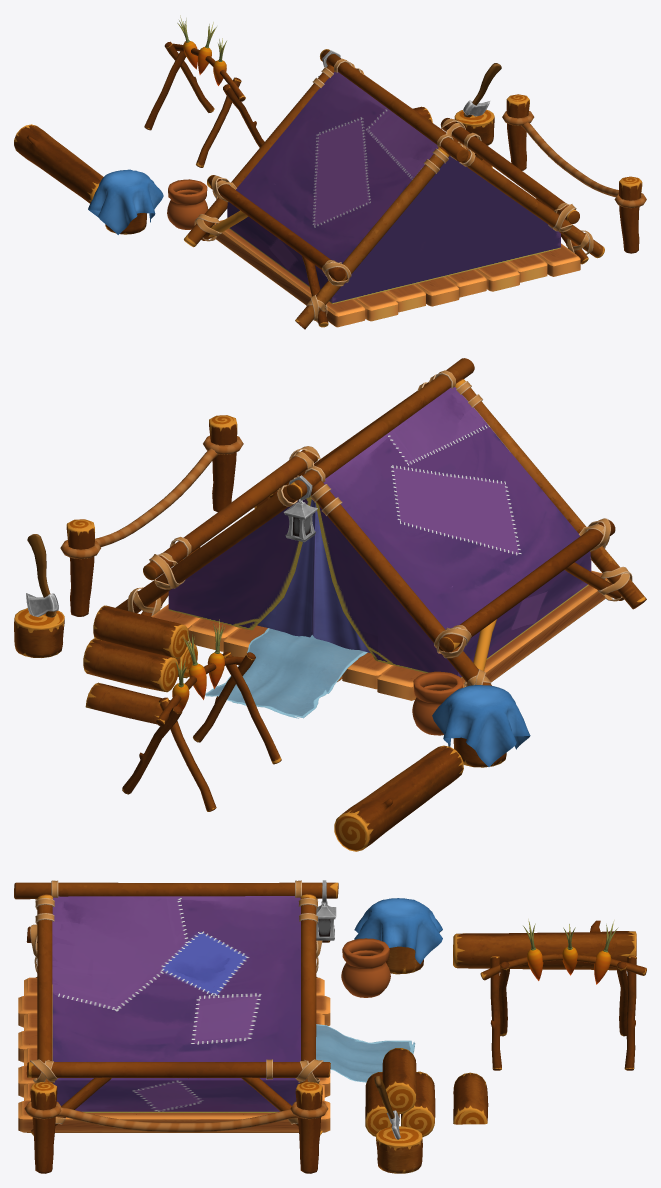
File: camp.fbx
3 renders of one model, top to bottom at view 1: azimuth 30°, elevation 25°; view 2: azimuth 150°, elevation 25°; view 3: azimuth 270°, elevation 25°, orthographic. The views are drawn at different scales.
Parts seen in each view (by area): view 1: Cube.003, woodenfloor2, woodenfloor1, Plane.005, log.007, Torus.062, log.008, log.009, log.004, log.015, log.013, log.014 (+9 smaller); view 2: Cube.003, blanket, clothcover, log.007, woodenfloor2, Plane.005, Torus.062, log.014, log.009, log.002, log.004, log.010 (+14 smaller); view 3: Cube.003, log.007, log.009, log.013, woodenfloor1, Plane.005, blanket, Cylinder, log.015, log.012, BezierCurve.002, Torus.062 (+15 smaller).
Boxes of the visible parts, left/top/right/bottom form: Cube.003: left=227, top=72, right=560, bottom=303; woodenfloor2: left=214, top=220, right=459, bottom=327; woodenfloor1: left=445, top=243, right=580, bottom=297; Plane.005: left=88, top=169, right=163, bottom=234; log.007: left=14, top=124, right=103, bottom=203; Torus.062: left=194, top=58, right=593, bottom=322; log.008: left=295, top=146, right=449, bottom=329; log.009: left=320, top=49, right=468, bottom=162; log.004: left=207, top=175, right=345, bottom=281; log.015: left=456, top=142, right=604, bottom=258; log.013: left=440, top=118, right=579, bottom=223; log.014: left=184, top=65, right=334, bottom=247; Cube.003: left=168, top=387, right=591, bottom=678; blanket: left=205, top=628, right=367, bottom=718; clothcover: left=257, top=499, right=370, bottom=652; log.007: left=334, top=745, right=463, bottom=851; woodenfloor2: left=337, top=570, right=607, bottom=700; Plane.005: left=432, top=685, right=530, bottom=766; Torus.062: left=127, top=370, right=632, bottom=687; log.014: left=311, top=480, right=491, bottom=685; log.009: left=286, top=358, right=474, bottom=500; log.002: left=83, top=638, right=178, bottom=692; log.004: left=439, top=519, right=615, bottom=652; log.010: left=93, top=605, right=188, bottom=659; Cube.003: left=52, top=896, right=300, bottom=1112; log.007: left=453, top=920, right=636, bottom=970; log.009: left=14, top=882, right=338, bottom=899; log.013: left=26, top=1062, right=330, bottom=1078; woodenfloor1: left=18, top=1047, right=330, bottom=1132; Plane.005: left=354, top=898, right=442, bottom=964; blanket: left=316, top=1024, right=415, bottom=1082; Cylinder: left=341, top=938, right=390, bottom=997; log.015: left=37, top=894, right=53, bottom=1083; log.012: left=300, top=894, right=316, bottom=1083; BezierCurve.002: left=57, top=1107, right=298, bottom=1132; Torus.062: left=30, top=880, right=323, bottom=1124.
Bounding box in the file's own units: 2394 × 905 × 2772.
